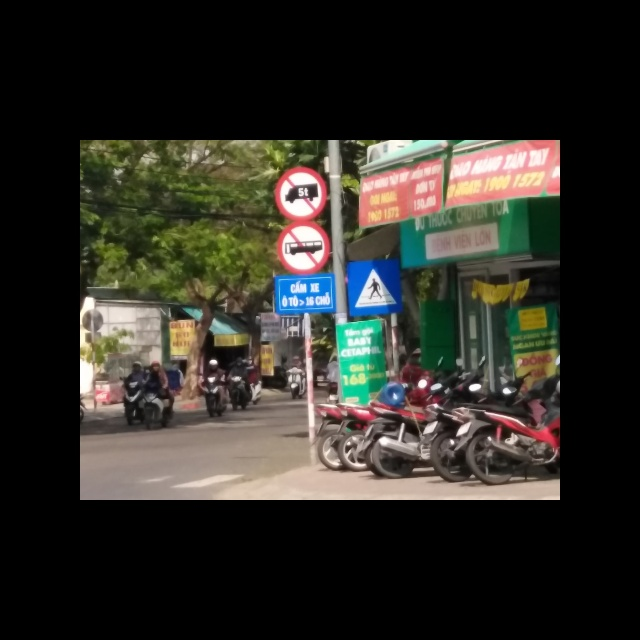Cấm xe tải: (272, 165, 326, 220)
Cấm xe xe khách: (275, 221, 332, 275)
Đường dành cho người đi bộ: (347, 262, 404, 317)
